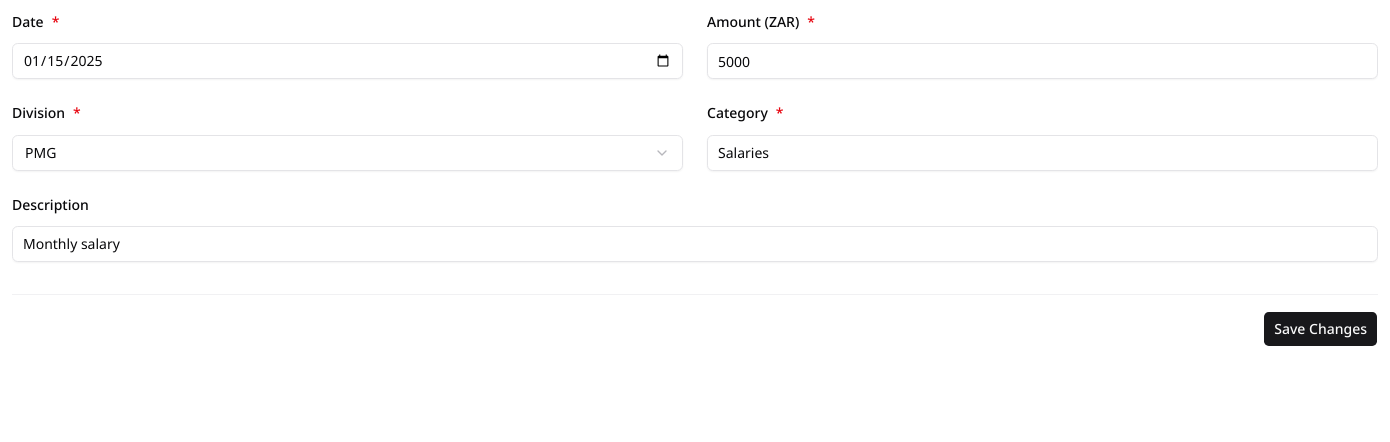
Test: ExpenseEditForm - inline error display › preserves field values on error - Validates: Requirements 1.7
Replace the text in the field labelled "Description" with "Updated description": (695, 244) [12,226,1378,262]
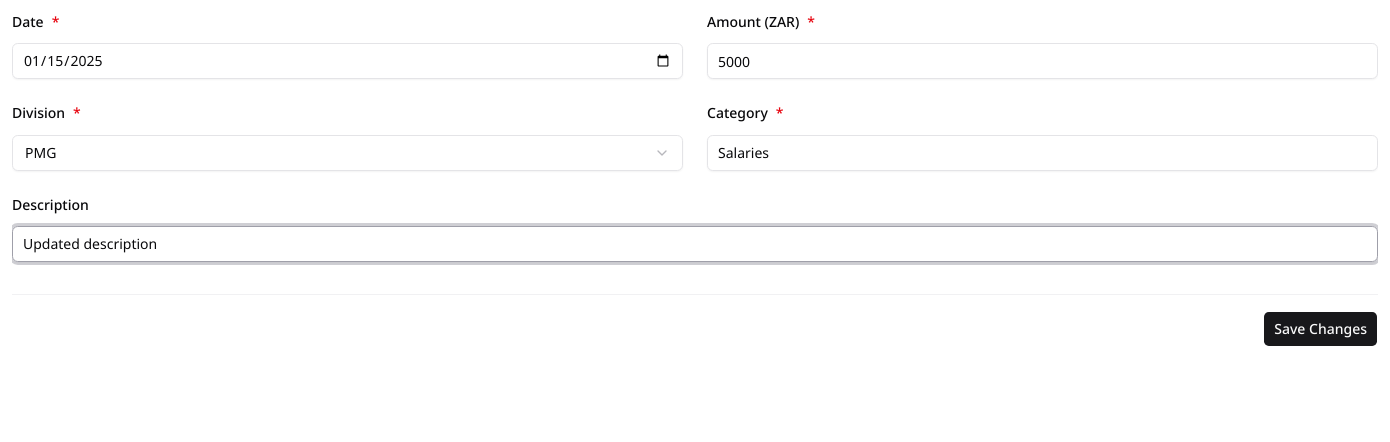
Click the button "Save Changes": (1321, 329) [1263,311,1378,347]
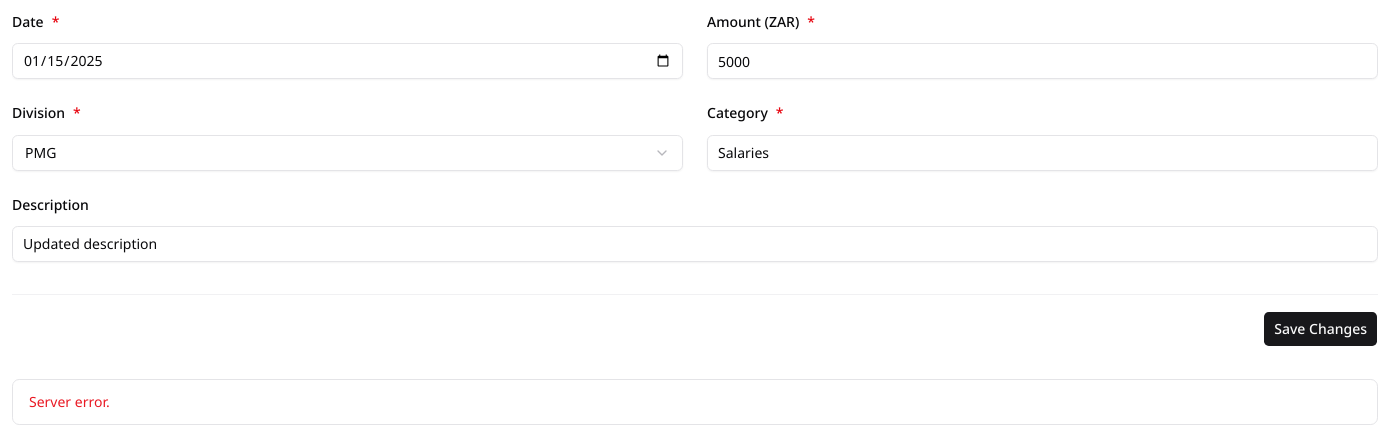
Now the text "Server error." is shown, box [29,392,110,411]
